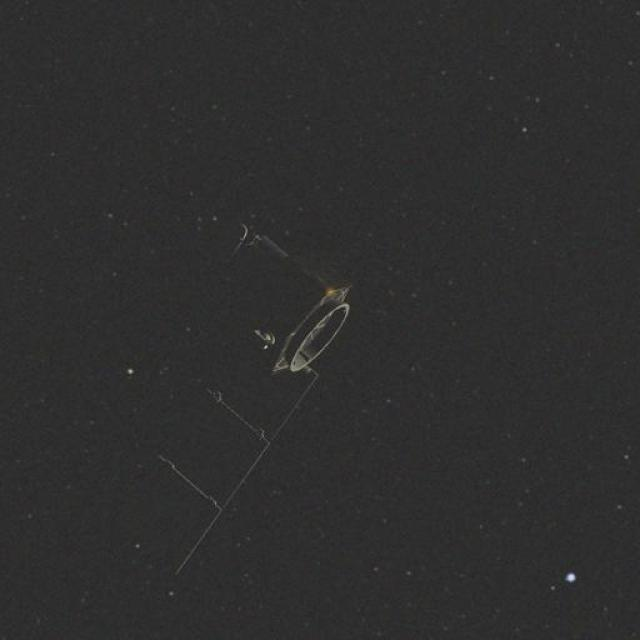earth_observation_sat_1: (177, 217, 373, 407)
